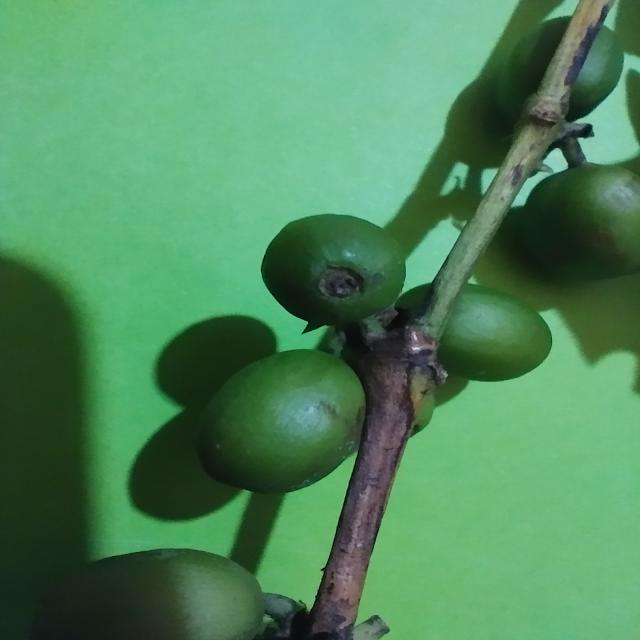Infectado: (260, 215, 406, 333)
Sano: (193, 350, 368, 498), (523, 164, 639, 281), (437, 285, 553, 395)
